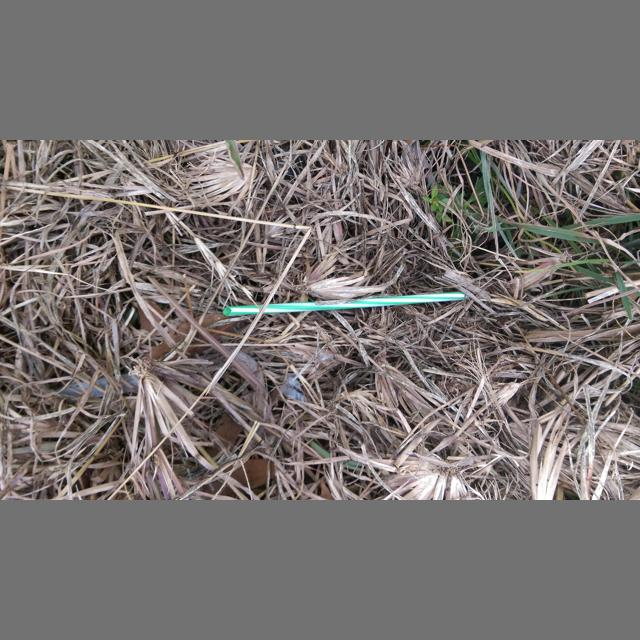litter: (223, 292, 470, 317), (280, 372, 305, 403), (319, 351, 331, 364)
